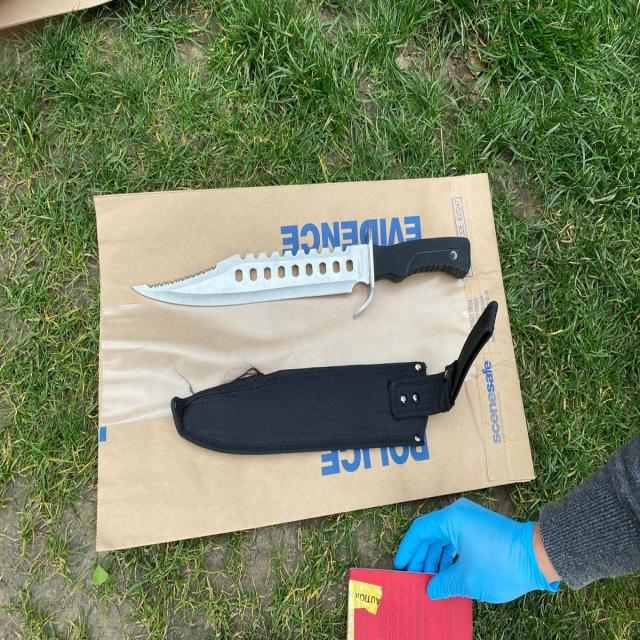Sharp-Object: (129, 238, 472, 316)
